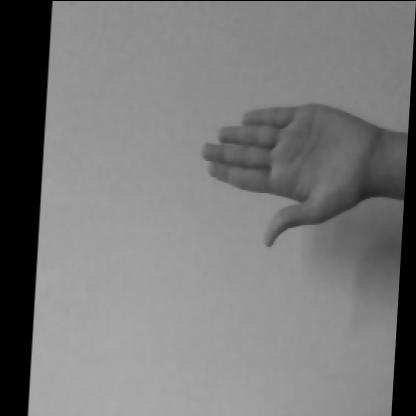palm: (174, 57, 412, 259)
